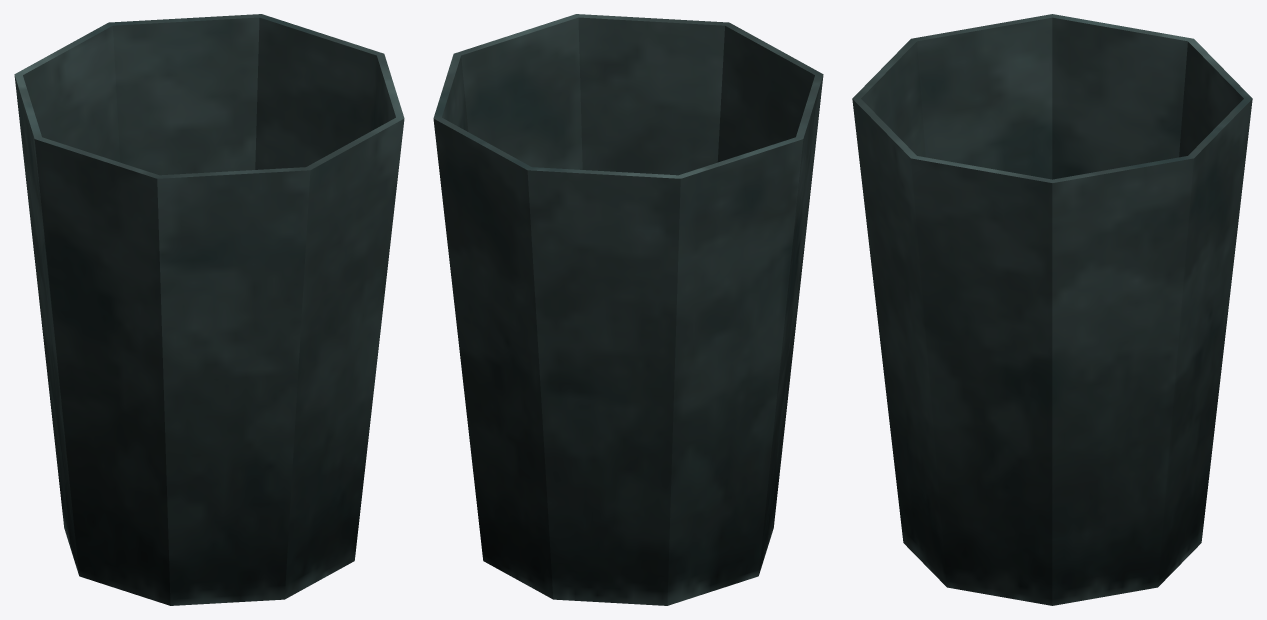
The model's file is Bucket_SM.fbx.
3 views of the same model, side by side, from view 1: azimuth 30°, elevation 25°; view 2: azimuth 150°, elevation 25°; view 3: azimuth 270°, elevation 25° (orthographic).
Parts seen in each view (by area): view 1: Bucket; view 2: Bucket; view 3: Bucket.
Boxes of the visible parts, x1,y1,x2,y2 form: Bucket: (14,14,404,605); Bucket: (433,14,823,605); Bucket: (852,14,1252,605).
Bounding box in the file's own units: 37.15 × 45.5 × 37.15.
